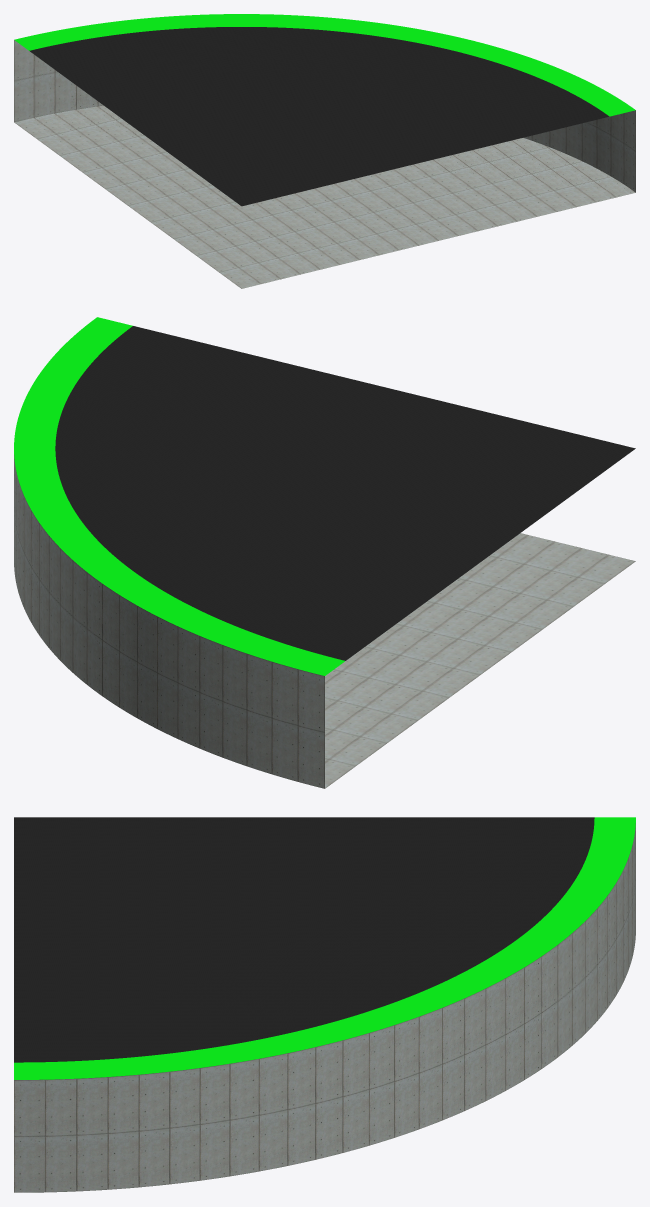
File: turnSmall.dae
3 renders of one model, top to bottom at view 1: azimuth 30°, elevation 25°; view 2: azimuth 150°, elevation 25°; view 3: azimuth 270°, elevation 25°, orthographic. The views are drawn at different scales.
Parts seen in each view (by area): view 1: Component_1 (×3); view 2: Component_1 (×3); view 3: Component_1 (×3).
Part boxes in pixels (x1,y1,x2,y2): Component_1 (×3): (14, 14, 635, 288); Component_1 (×3): (14, 317, 635, 788); Component_1 (×3): (14, 817, 635, 1192).
Bounding box in the file's own units: 1181 × 1181 × 236.
3 materials, 3 textured.
